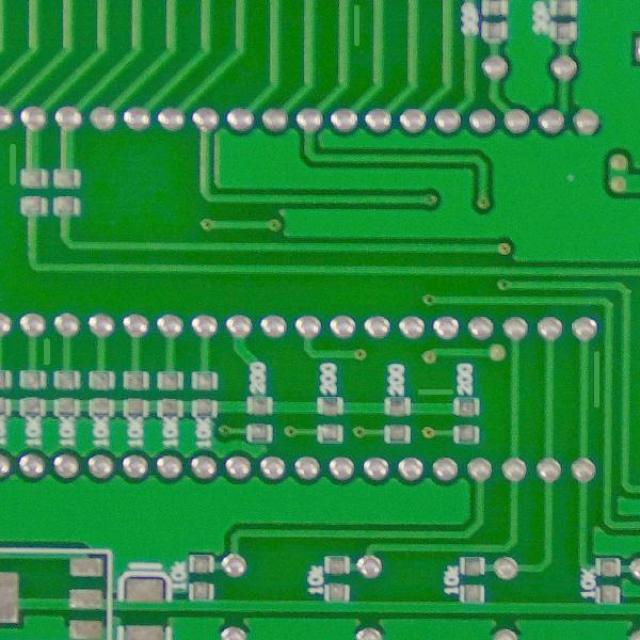Spurious_Cooper: (1, 138, 20, 191), (589, 346, 604, 412), (349, 0, 364, 50), (413, 384, 456, 399), (37, 333, 54, 367)
